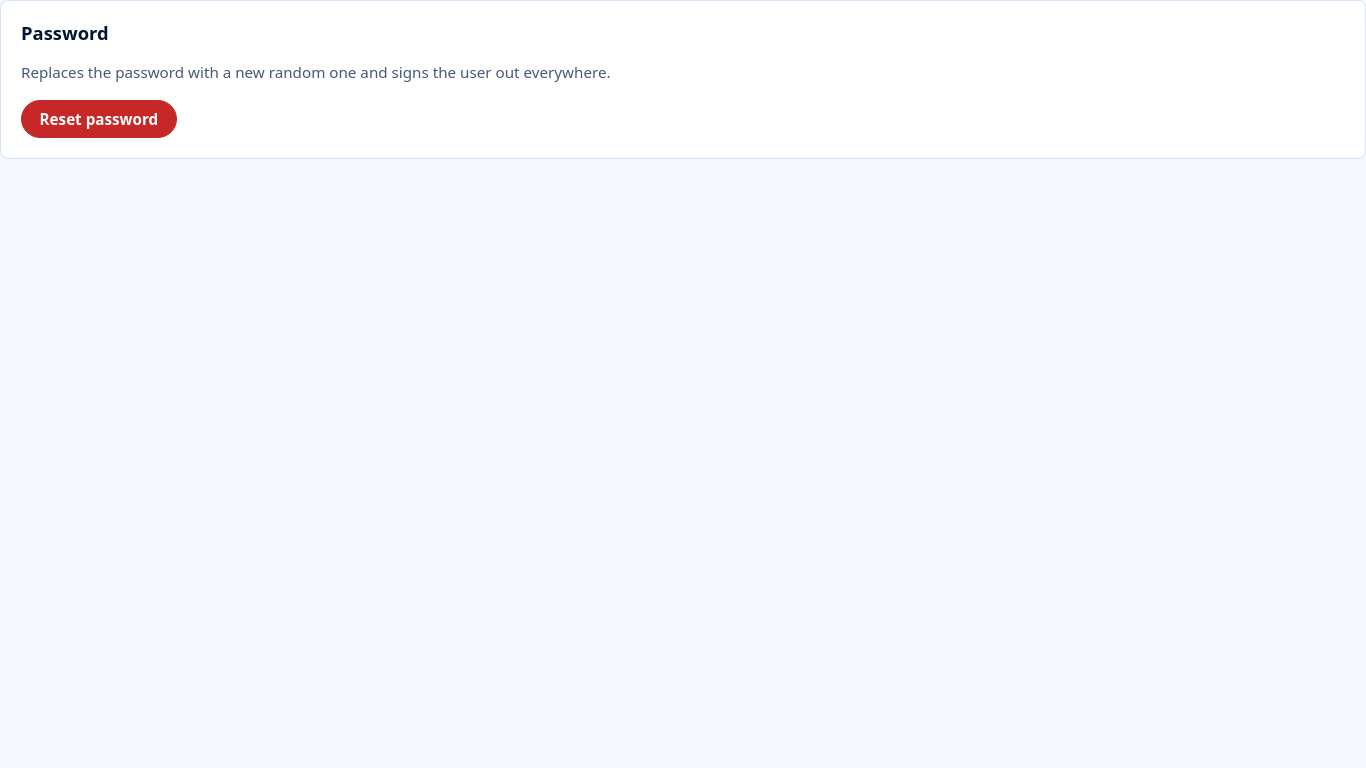
Test: PasswordSection › asks before resetting the password
This screenshot has width=1366, height=768.
Click the button "Reset password".
click(99, 119)  # box [21,100,177,138]
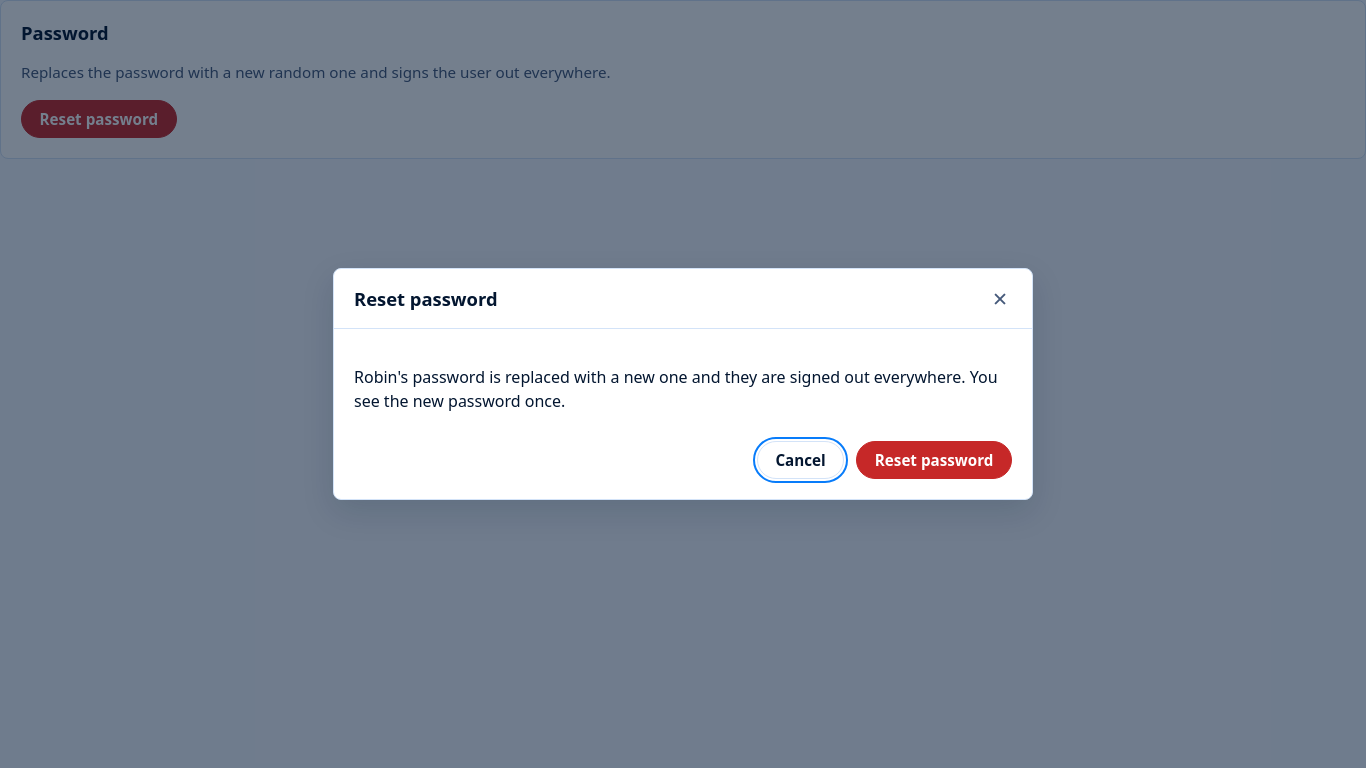
Result: the dialog "Reset password" shows "Robin's password is replaced with a new one and they are signed out everywhere. You see the new password once." at [333,268,1033,500]
